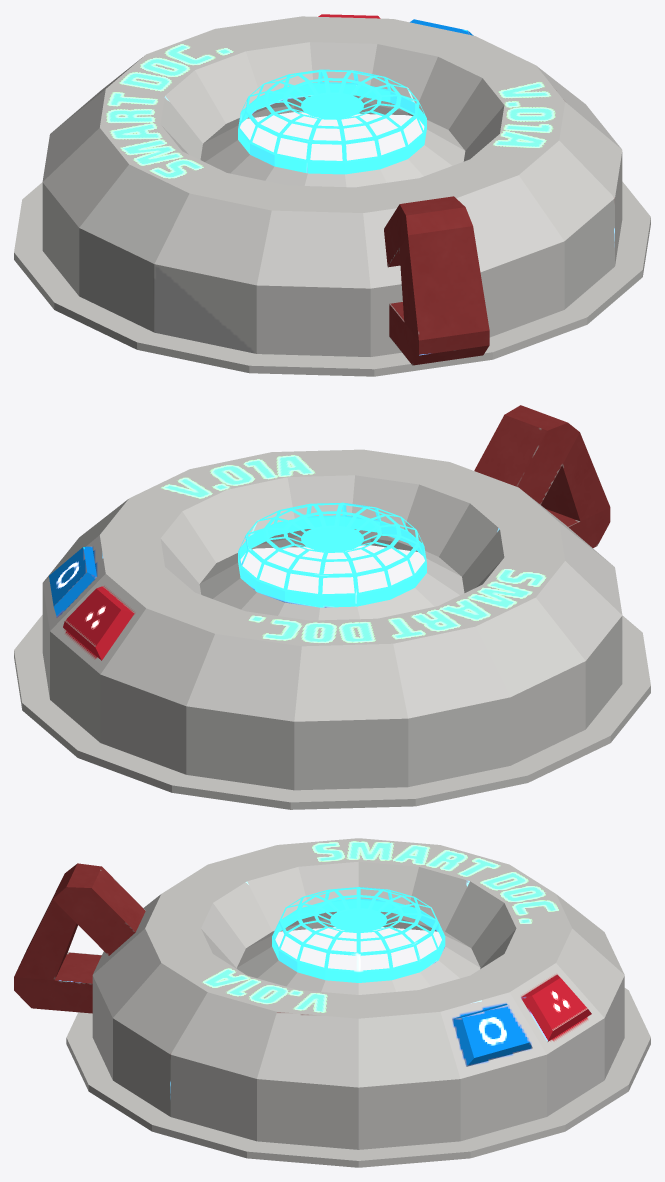
The model's file is sd_base_holoprojector.glb.
3 renders of one model, top to bottom at view 1: azimuth 30°, elevation 25°; view 2: azimuth 150°, elevation 25°; view 3: azimuth 270°, elevation 25°, orthographic. The views are drawn at different scales.
Parts seen in each view (by area): view 1: Cylinder; view 2: Cylinder; view 3: Cylinder.
Part boxes in pixels (x1,y1,x2,y2): Cylinder: [14, 14, 650, 376]; Cylinder: [14, 405, 650, 809]; Cylinder: [14, 838, 650, 1167].
Bounding box in the file's own units: 1.01 × 0.2757 × 1.1.
Materials: 1 (1 with a texture image).
